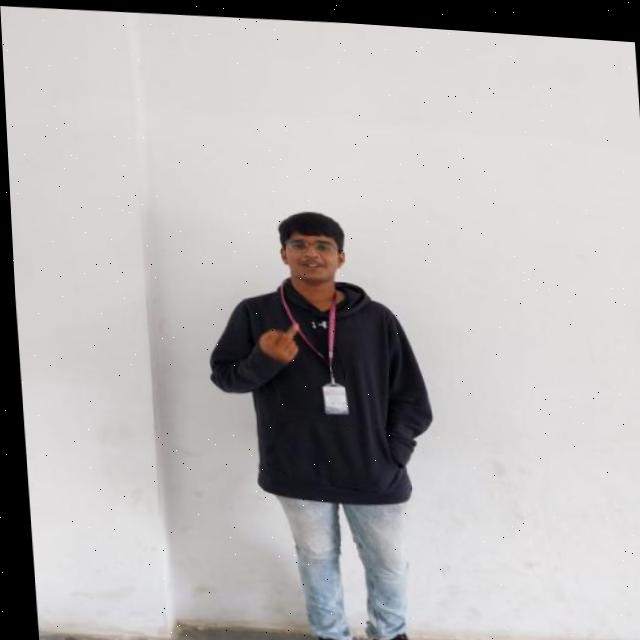id_card: (274, 277, 353, 416)
